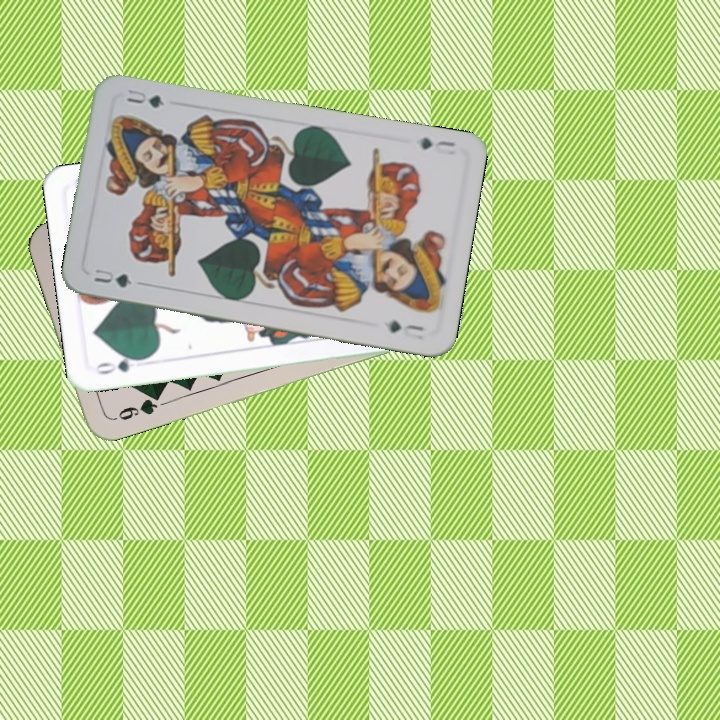G9: (107, 392, 163, 424)
GO: (91, 352, 149, 377)
GU: (90, 265, 135, 290), (415, 133, 459, 152)
